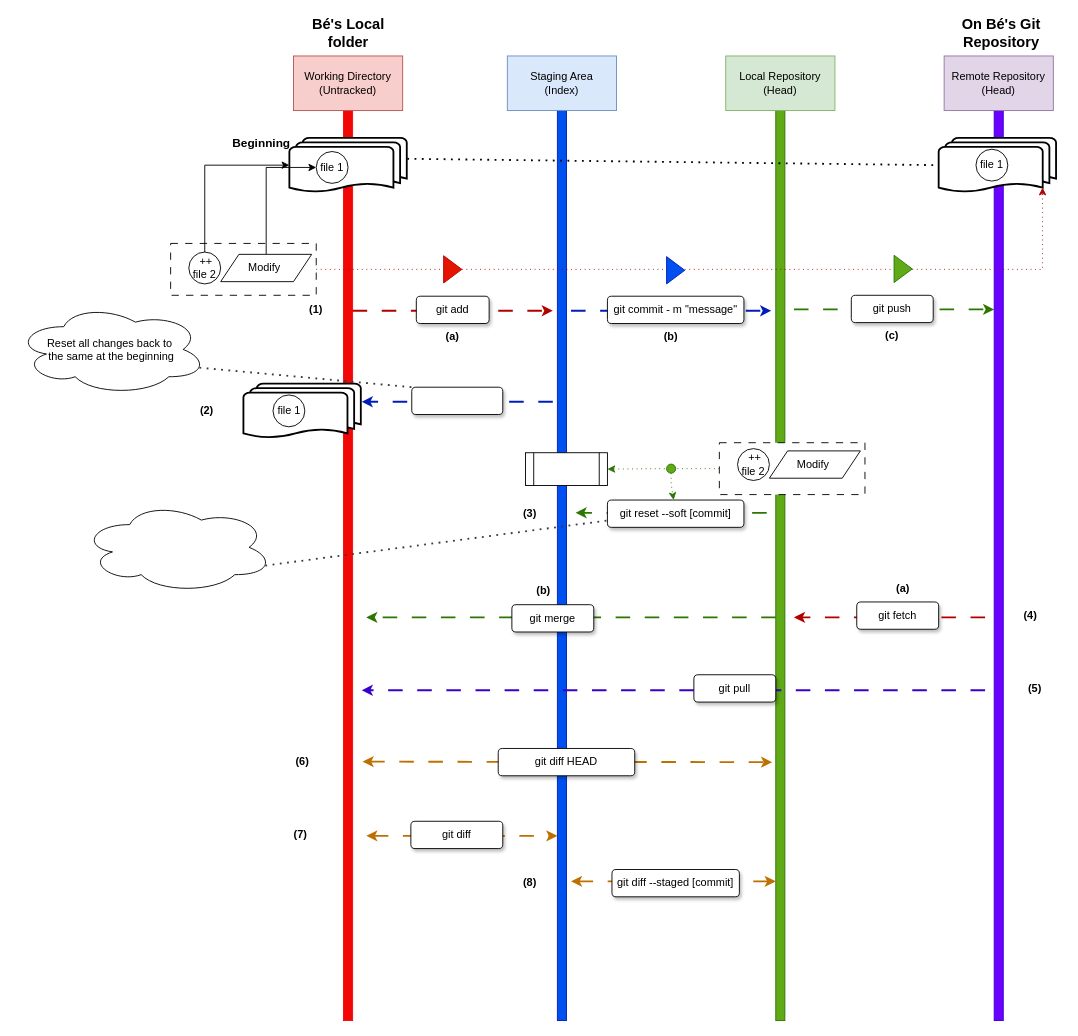
The diagram is 1078 pixels wide and 1036 high, and some of its shapes have lost their labels. Each missing label, with the centre of its shape:
"git reset --hard" belongs at [457,402].
"Move all changes of any commits back to staging" belongs at [177,547].
"Ship back to staging" belongs at [566,468].
